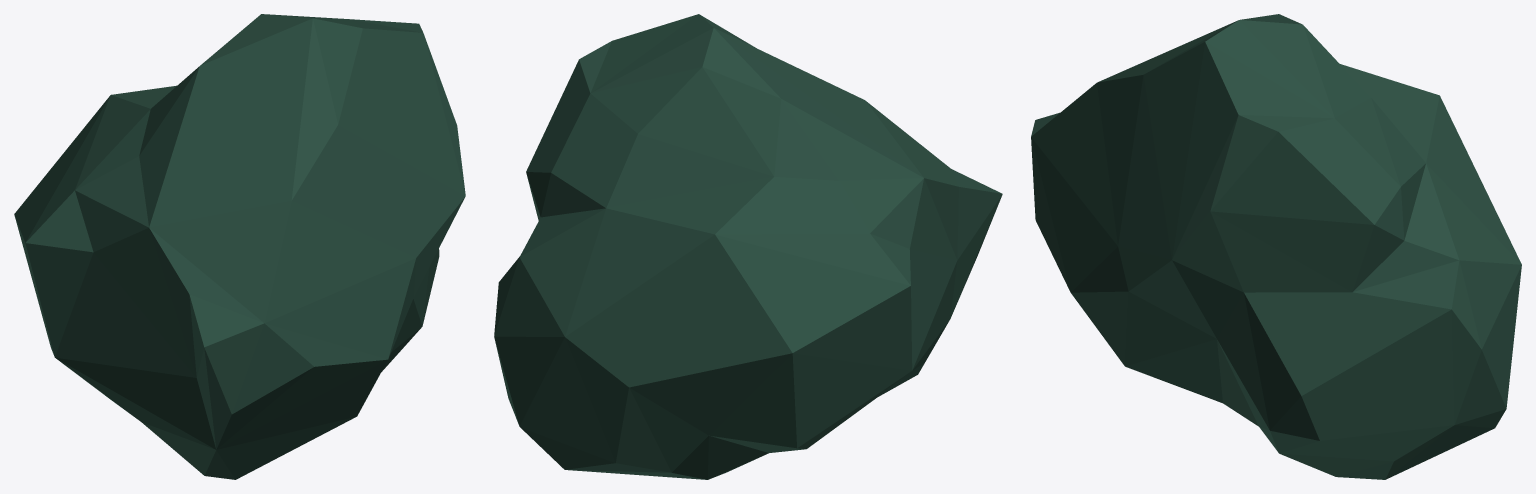
Rendered from SM_large_rock_18.fbx.
3 renders of one model, left to right at view 1: azimuth 30°, elevation 25°; view 2: azimuth 150°, elevation 25°; view 3: azimuth 270°, elevation 25°, orthographic. The views are drawn at different scales.
Visible parts, largest first — view 1: large_rock_18; view 2: large_rock_18; view 3: large_rock_18.
Boxes of the visible parts, bbox=[...] form: large_rock_18: bbox=[14, 14, 465, 479]; large_rock_18: bbox=[494, 14, 1002, 479]; large_rock_18: bbox=[1031, 14, 1521, 479].
Bounding box in the file's own units: 46.27 × 46.74 × 48.25.
